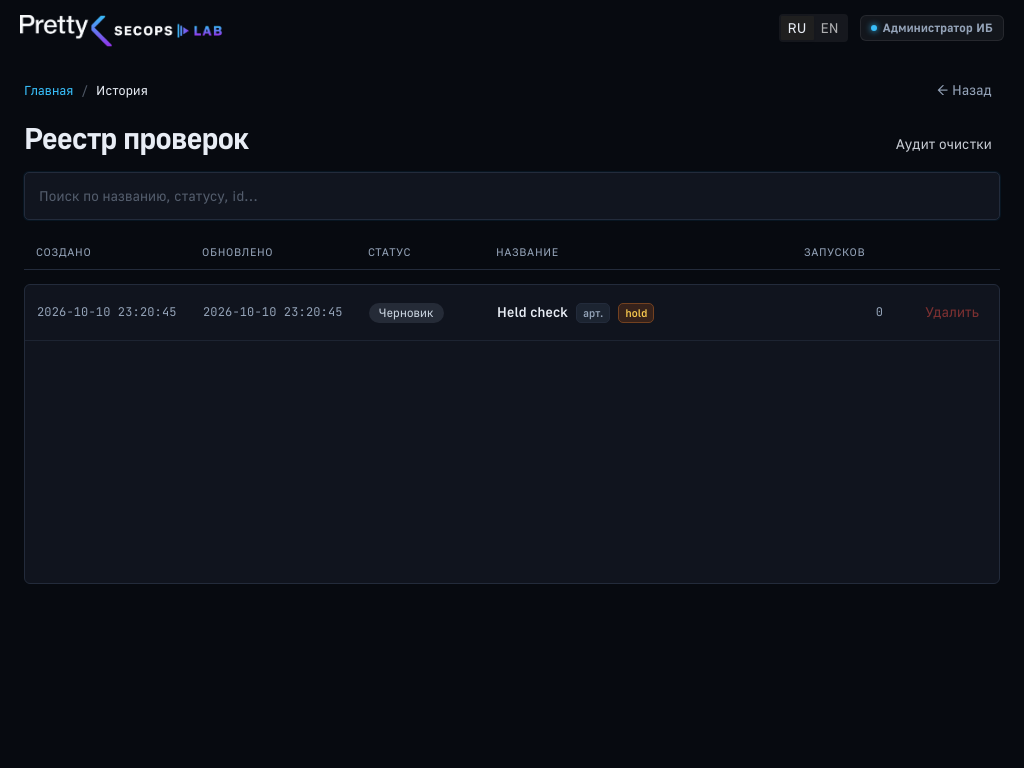
Test: HistoryPage › badge hold и блокировка purge при legal_hold
Click the button "Удалить".
click(952, 312)  # box [917,298,987,326]
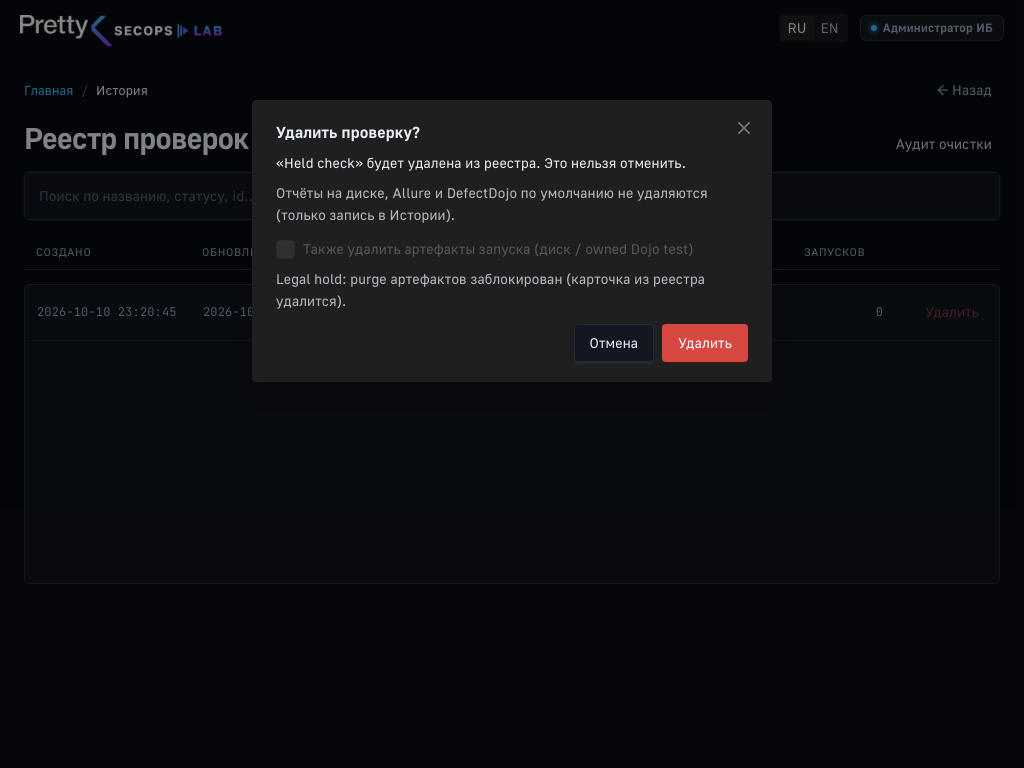
Expected: the checkbox with test id "history-purge-artifacts" is disabled, [276,238,702,260]
Expected: the text with test id "history-purge-hold-note" is shown, [276,268,748,312]
